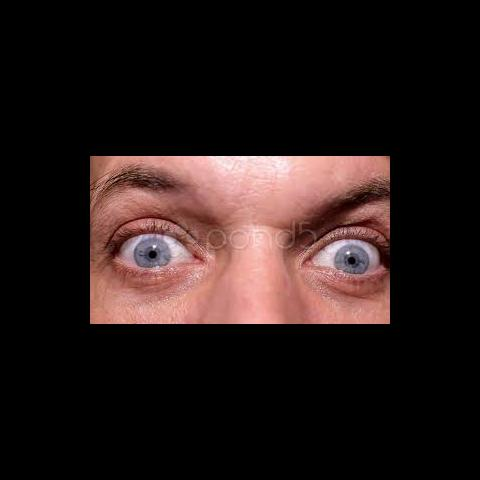opened: (104, 181, 387, 283)
